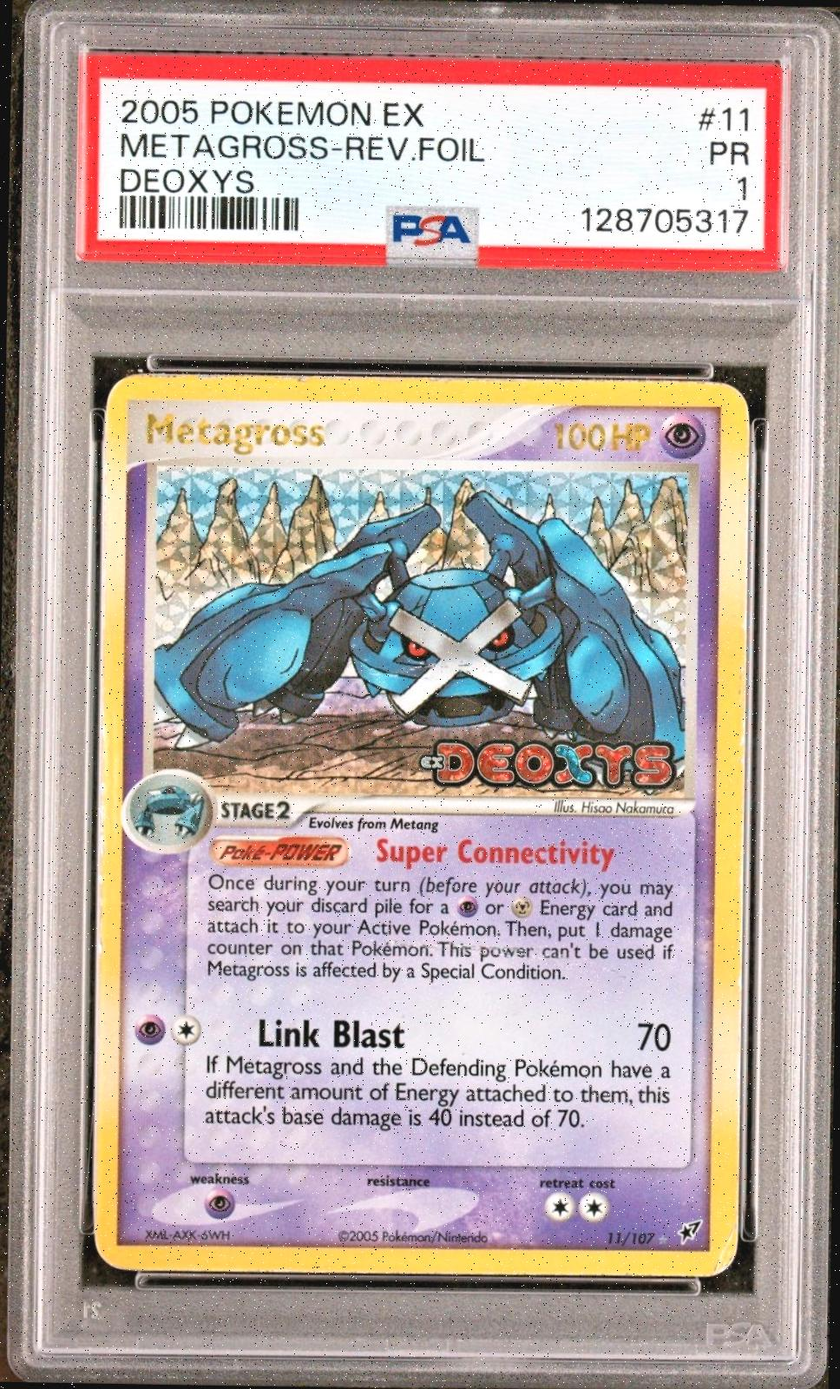card-2UtV: (93, 372, 750, 1277)
